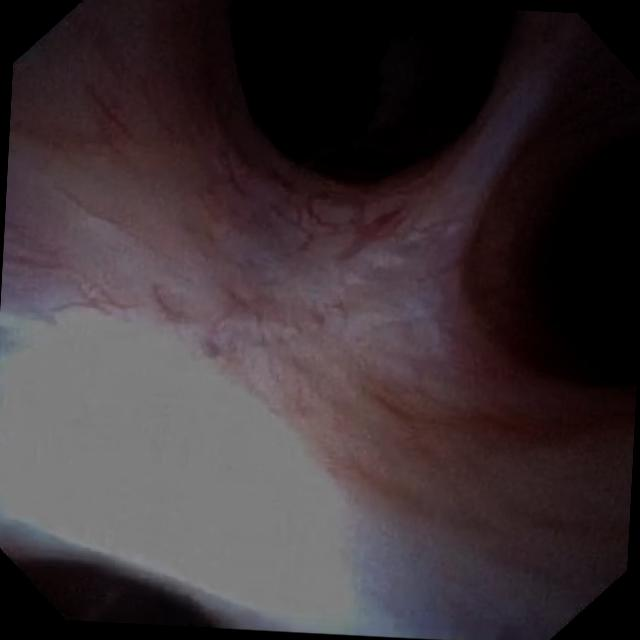stone-new: (283, 0, 408, 154)
